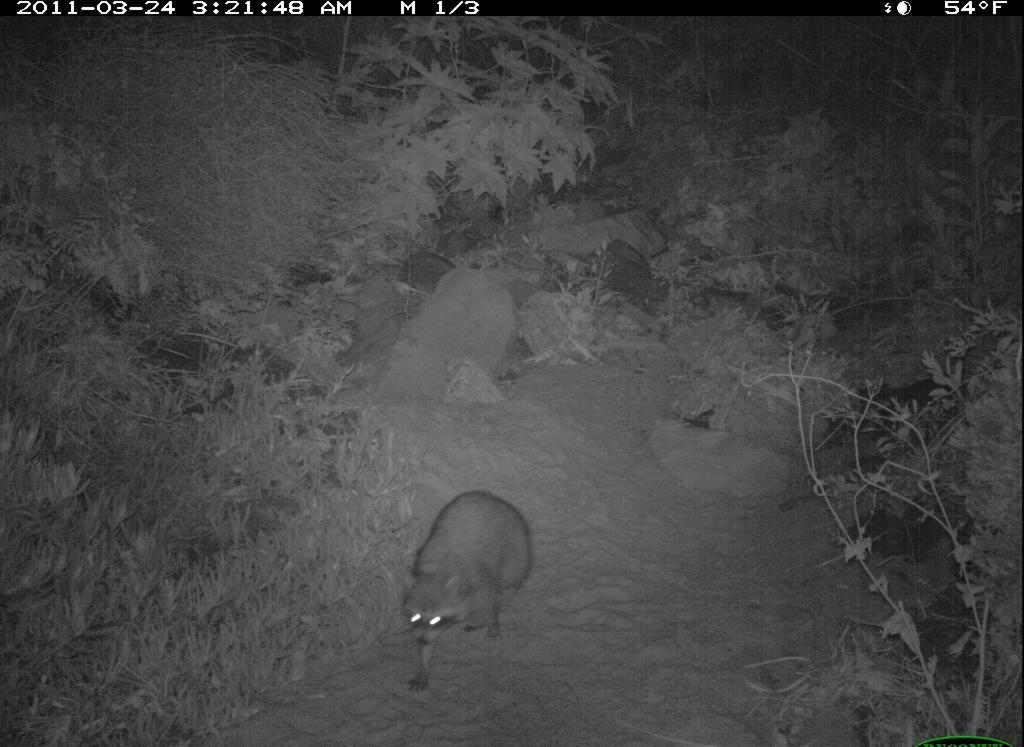raccoon: (393, 473, 541, 697)
